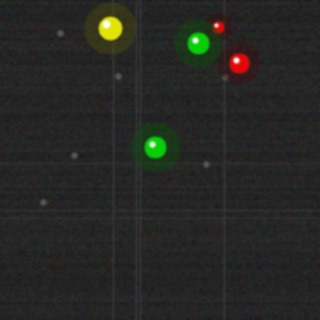green_normal: (142, 134, 168, 160), (185, 30, 211, 56)
red_fault: (227, 51, 251, 75), (210, 19, 226, 35)
yellow_warning: (96, 14, 124, 42)
